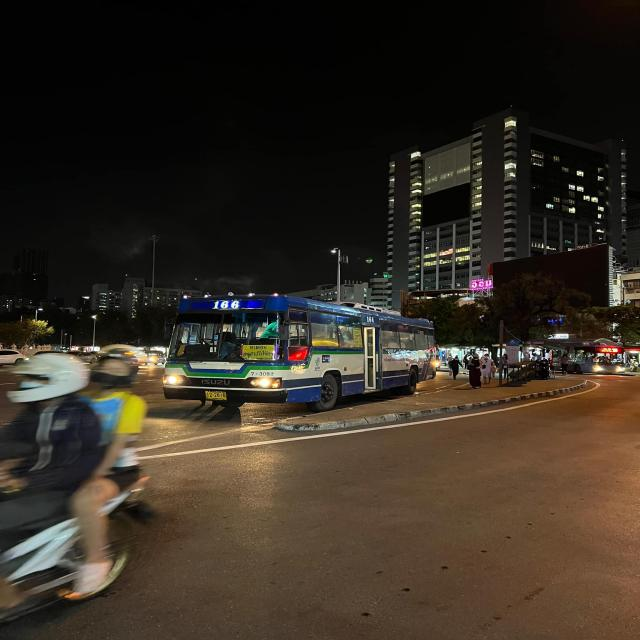BMTA-bus: (161, 291, 437, 413)
Bus-Line-Number: (207, 300, 244, 310)
Destination-Sign-Normal-Expressway: (242, 345, 275, 361)
